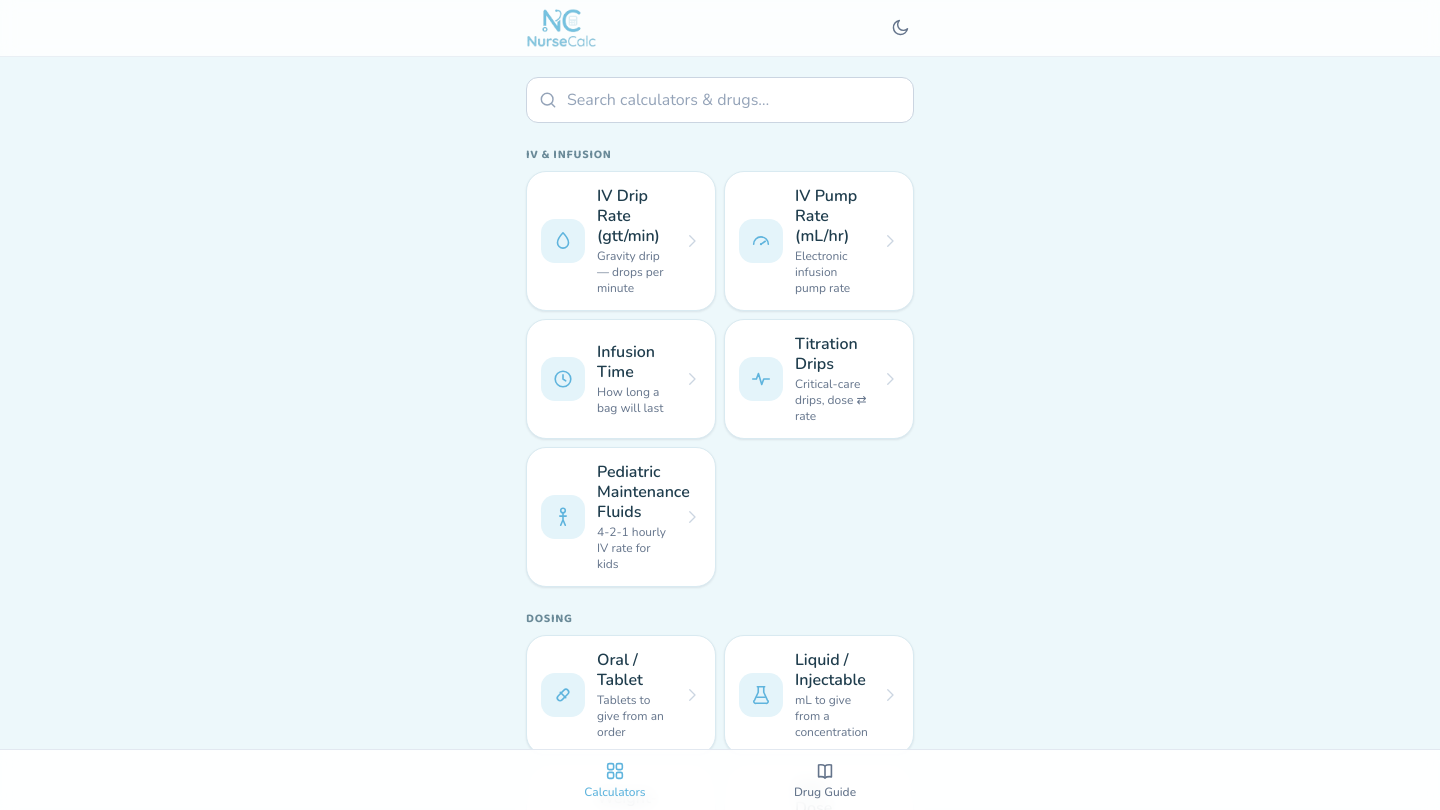
Test: App › conversions: temperature allows a negative value (−40 °C = −40 °F)
Click the button "Calculators" at (615, 780), box [510,750,720,809]
(page scrolled)
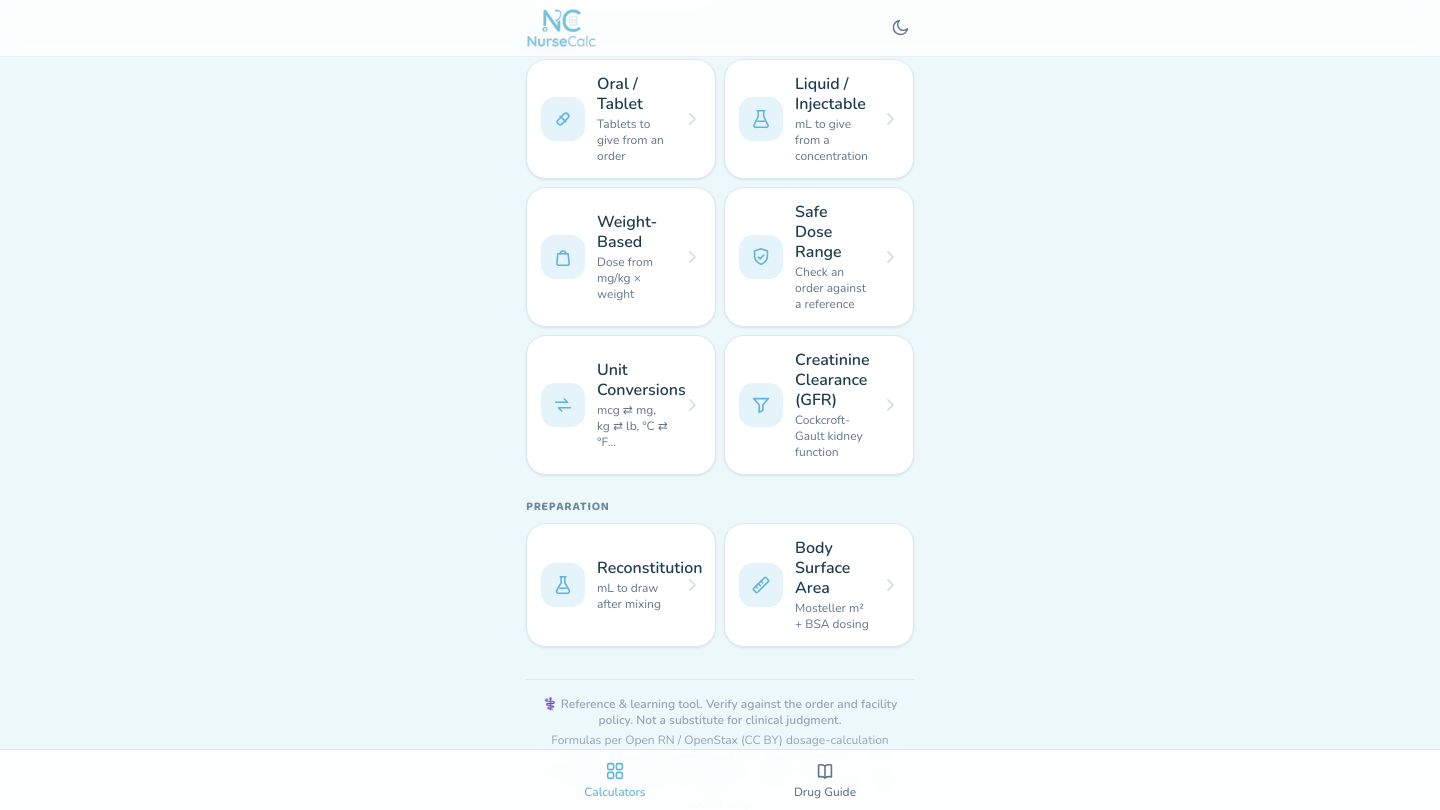
Click the button "Unit Conversions mcg ⇄ mg, kg ⇄ lb, °C ⇄ °F…" at (621, 405), box [526,335,716,475]
(page scrolled)
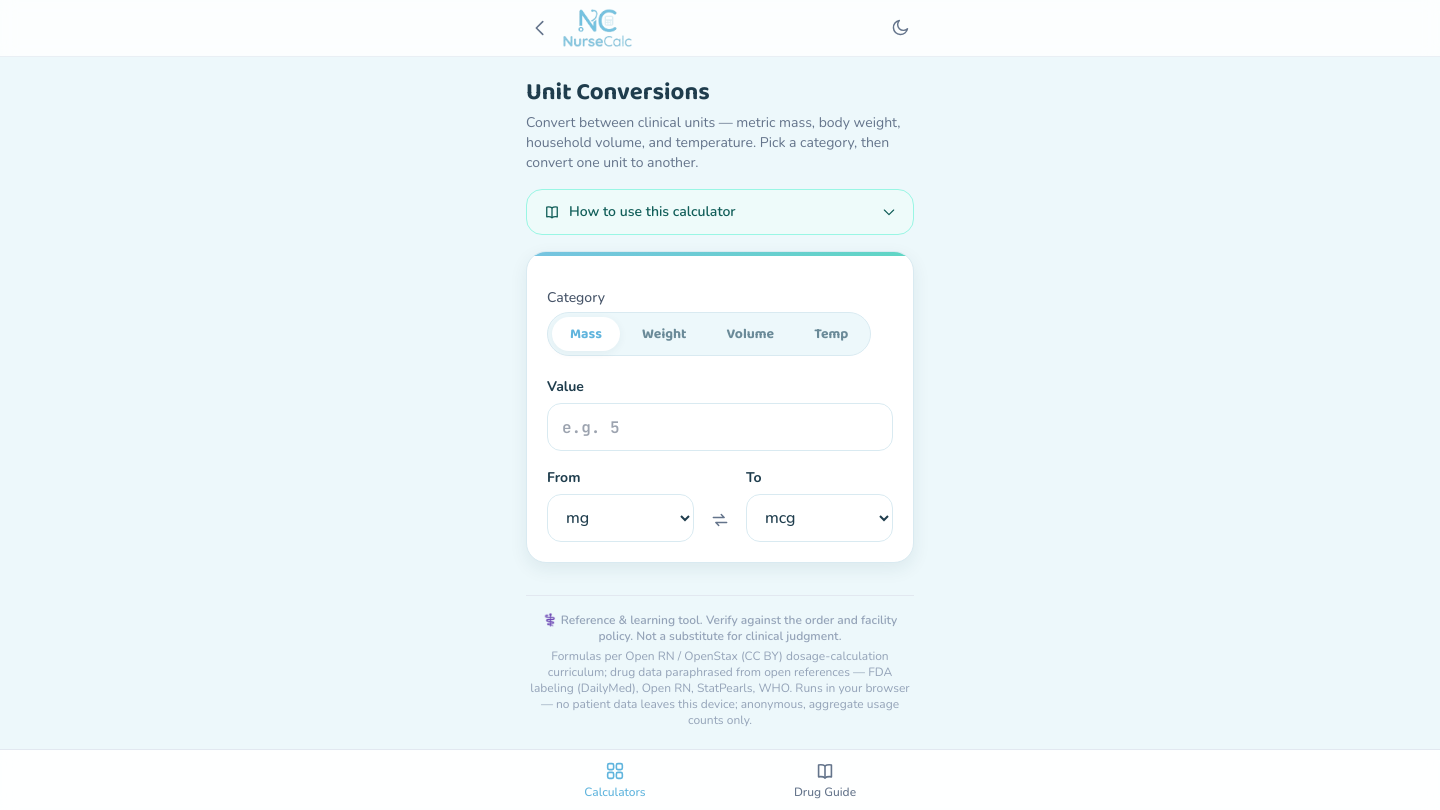
Click the tab "Temp" at (831, 334), box [796,317,866,351]
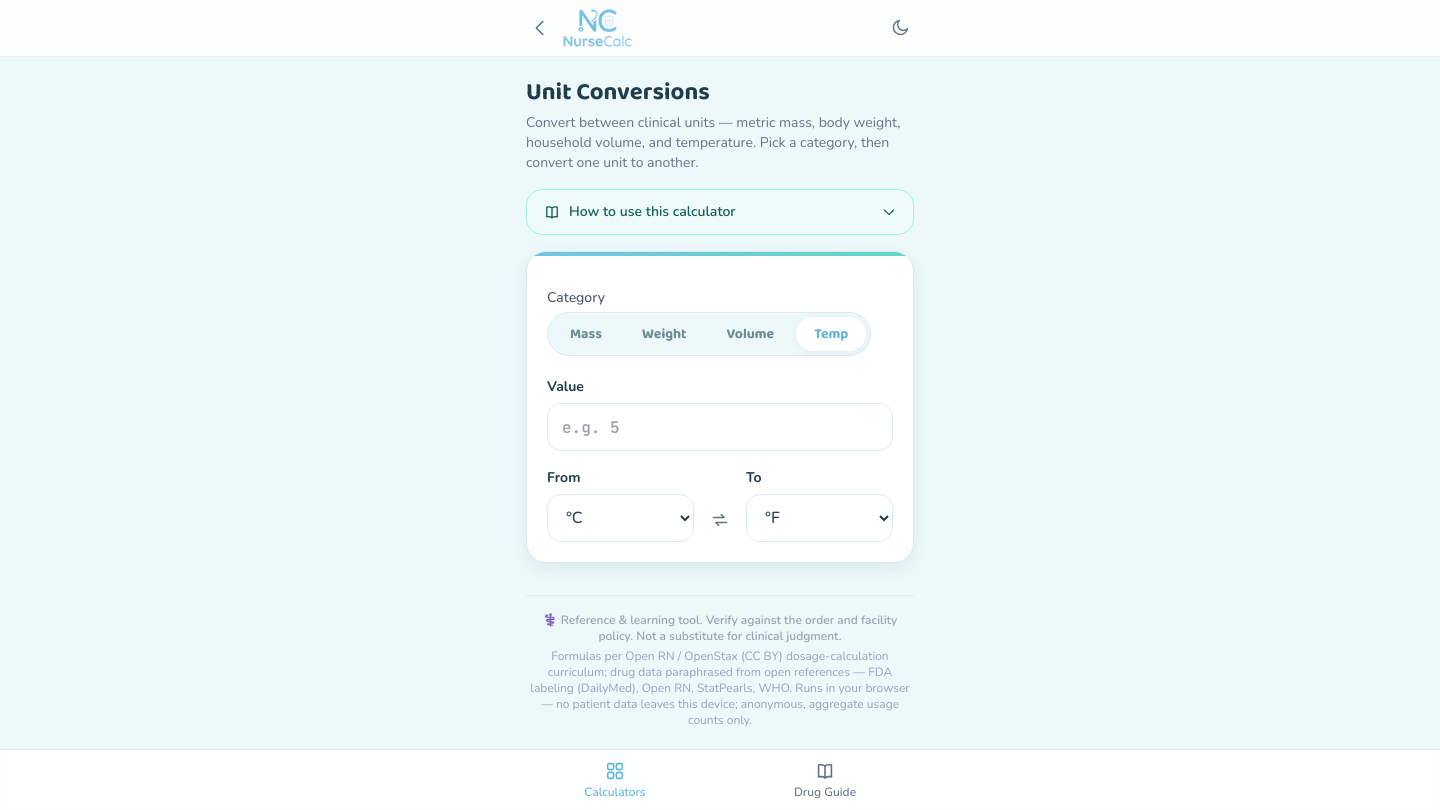
Type "-40" into the field labelled "Value" at (720, 427), box [548,404,892,450]
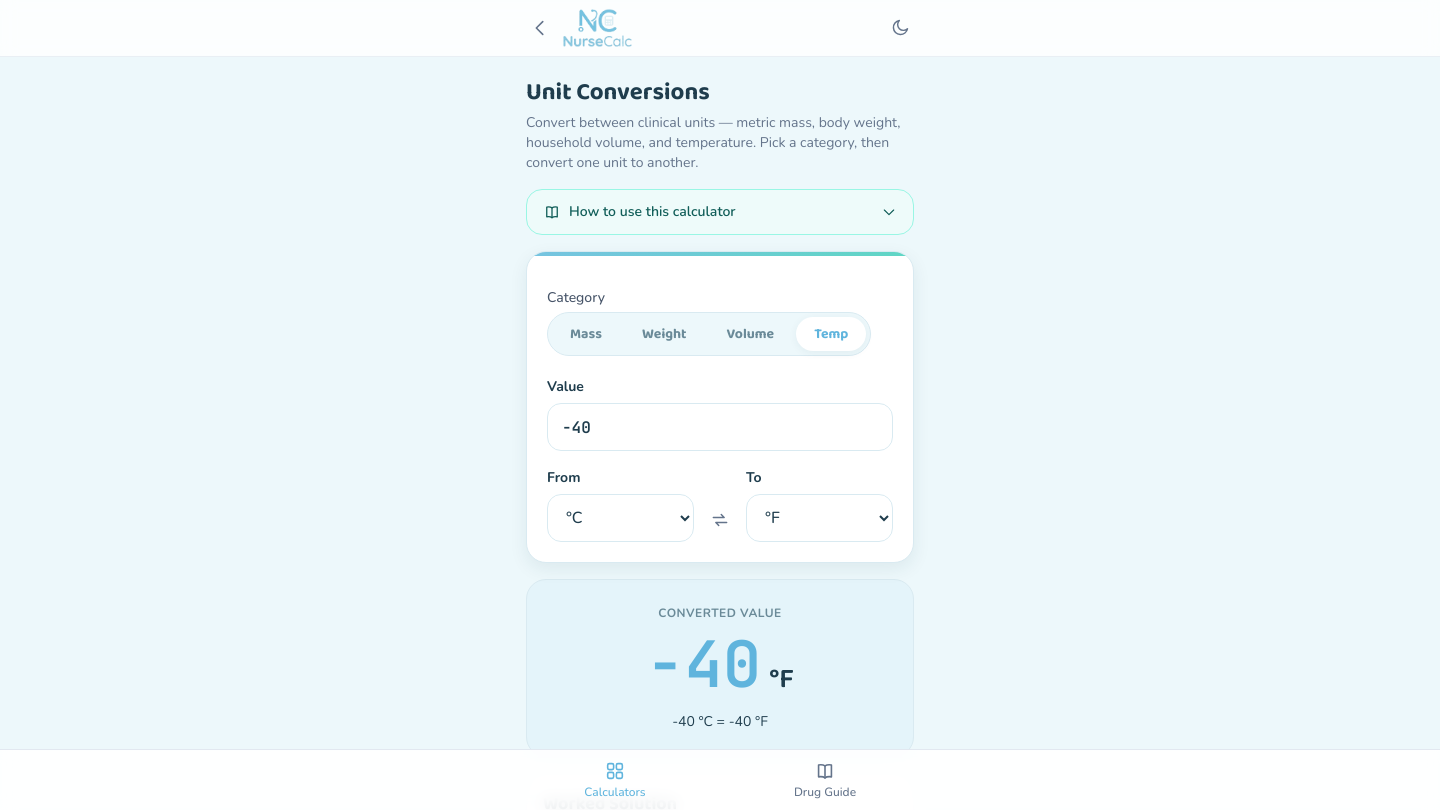
Check: the text "-40" is shown, box [646,632,761,696]
